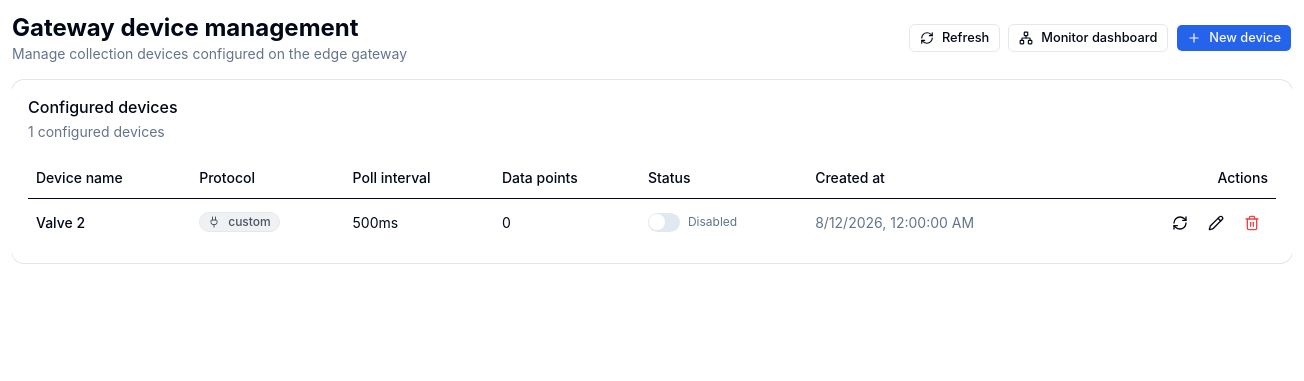
Test: 网关页面双语文案 › 网关设备连接测试失败时应显示失败结果，非法数据点配置应回退为零
Expected: the text "custom" is shown, [228, 214, 271, 230]
Expected: the text "0" is shown, [494, 198, 640, 246]
Click the button titled "Test connection".
click(1180, 222)  # box [1164, 206, 1196, 238]
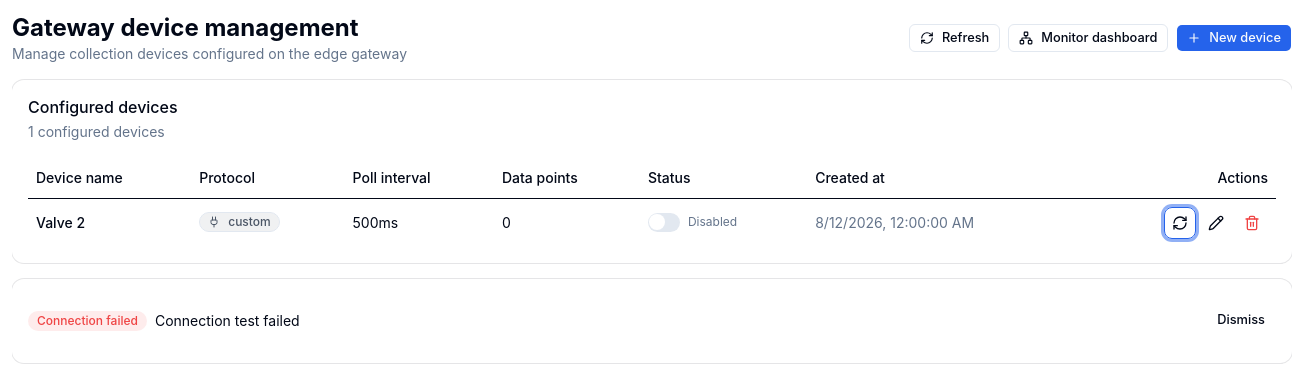
Expected: the text "Connection test failed" is shown, [155, 310, 300, 330]
